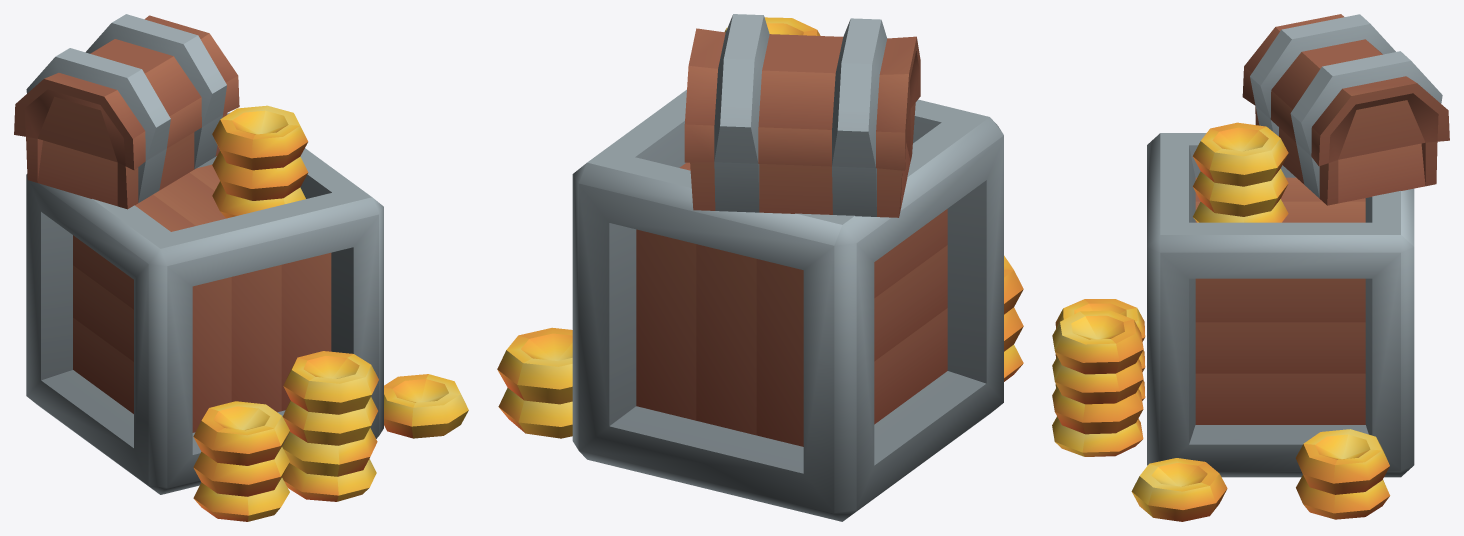
The model's file is cc0-box-decorated-lod1.glb.
3 views of the same model, side by side, from view 1: azimuth 30°, elevation 25°; view 2: azimuth 150°, elevation 25°; view 3: azimuth 270°, elevation 25° (orthographic). The views are drawn at different scales.
Parts seen in each view (by area): view 1: part_0; view 2: part_0; view 3: part_0.
Part boxes in pixels (x1=…): part_0: x1=14, y1=14, x2=468, y2=521; part_0: x1=497, y1=14, x2=1023, y2=521; part_0: x1=1052, y1=14, x2=1449, y2=521.
Bounding box in the file's own units: 1.49 × 1.48 × 1.49.
Materials: 1 (1 with a texture image).
